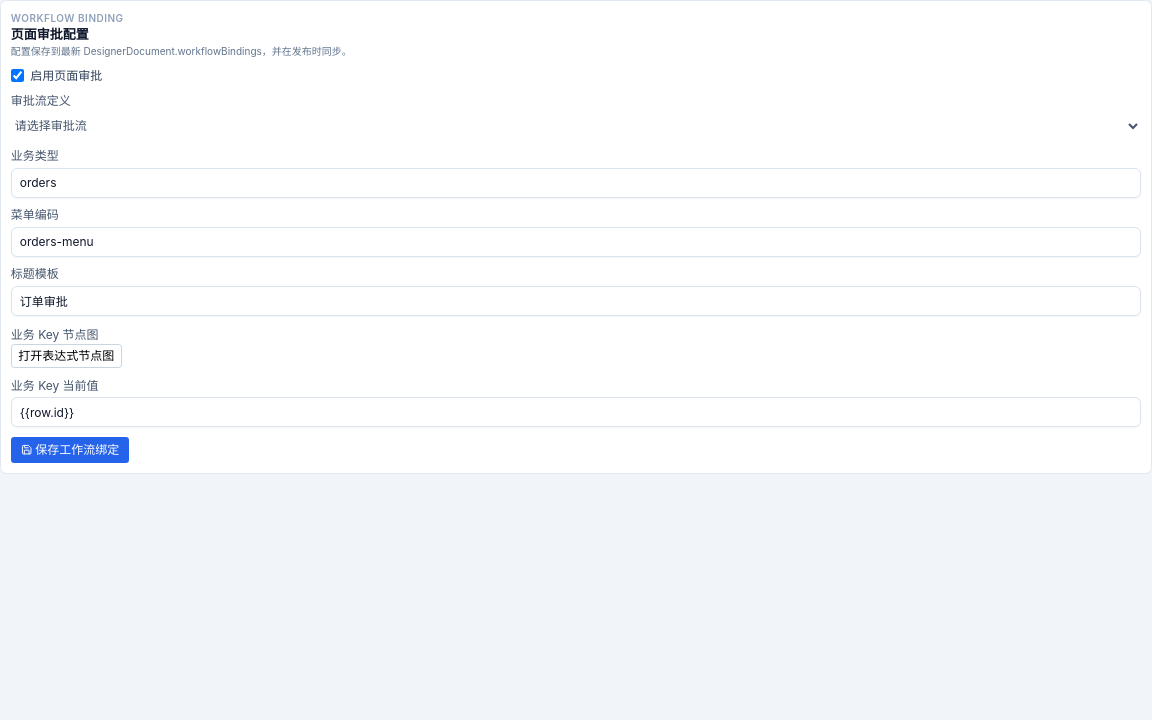
Test: latest WorkflowBindingPanel › blocks enabled save when no definition is selected
This screenshot has width=1152, height=720.
Click the button "保存工作流绑定": {"x": 70, "y": 450} x1=11 y1=437 x2=129 y2=463
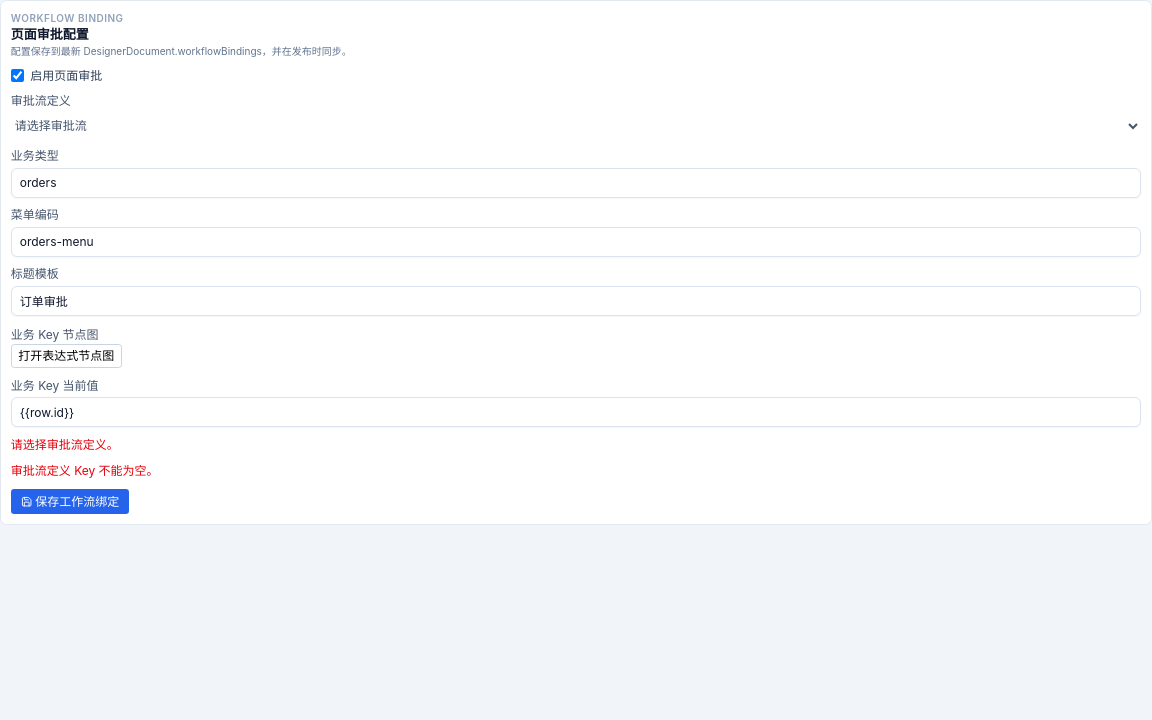
Now the message "请选择审批流定义。" is shown, box x1=11 y1=437 x2=119 y2=452
